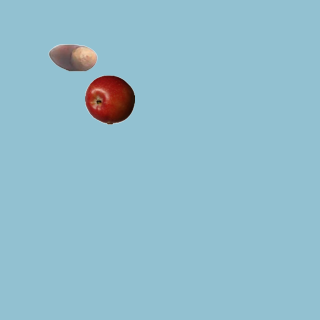Apple Braeburn: (84, 74, 134, 124)
Hazelnut: (47, 32, 97, 82)
